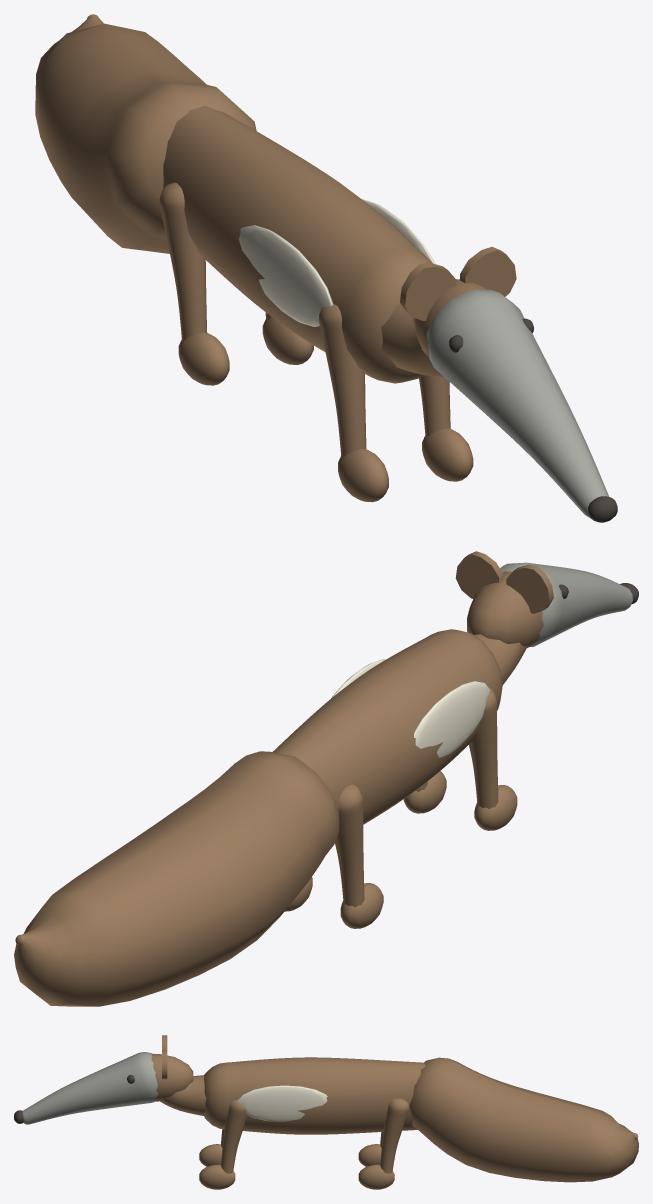
File: rainforest-and-jungle-fauna-giant-anteater-8fe88e2c__21661.glb
3 views of the same model, one above another, from view 1: azimuth 30°, elevation 25°; view 2: azimuth 150°, elevation 25°; view 3: azimuth 270°, elevation 25° (orthographic). The views are drawn at different scales.
Parts seen in each view (by area): view 1: giant-anteater; view 2: giant-anteater; view 3: giant-anteater.
Part boxes in pixels (left/top/right/bottom): giant-anteater: left=35, top=14, right=617, bottom=522; giant-anteater: left=14, top=551, right=638, bottom=1006; giant-anteater: left=14, top=1035, right=638, bottom=1189.
Bounding box in the file's own units: 0.3715 × 0.4754 × 2.
